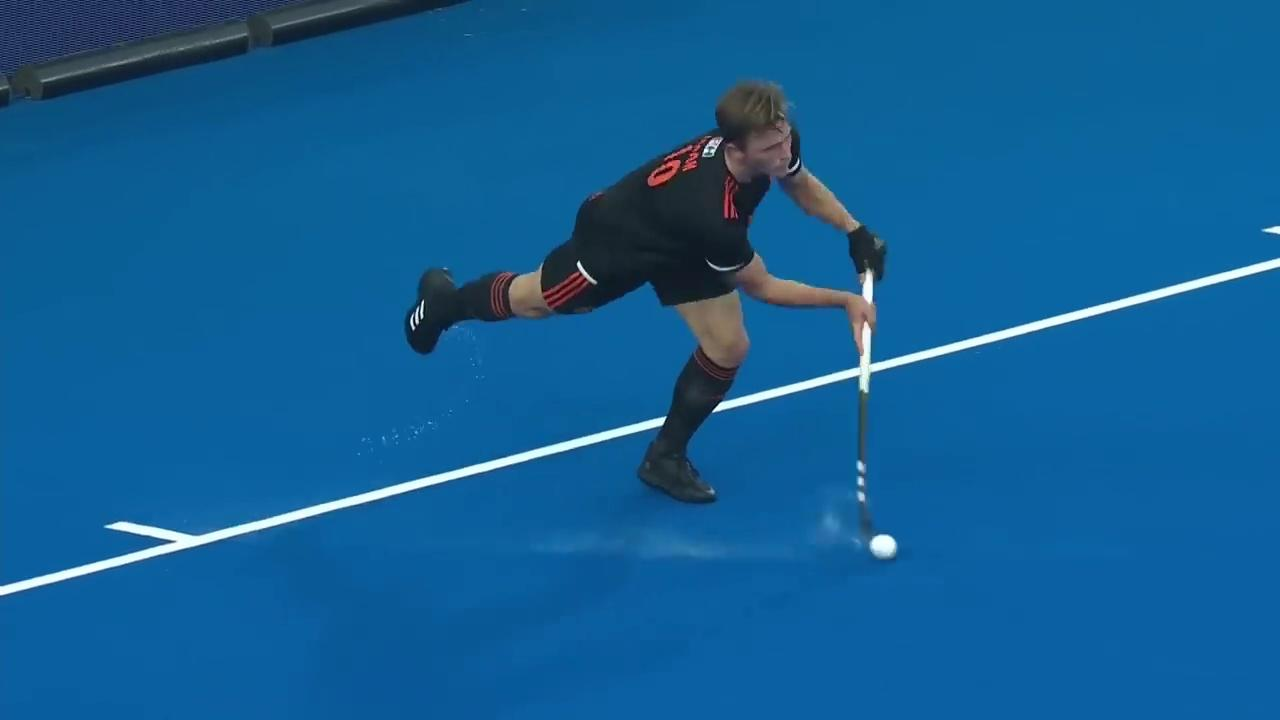ball: (854, 523, 919, 571)
